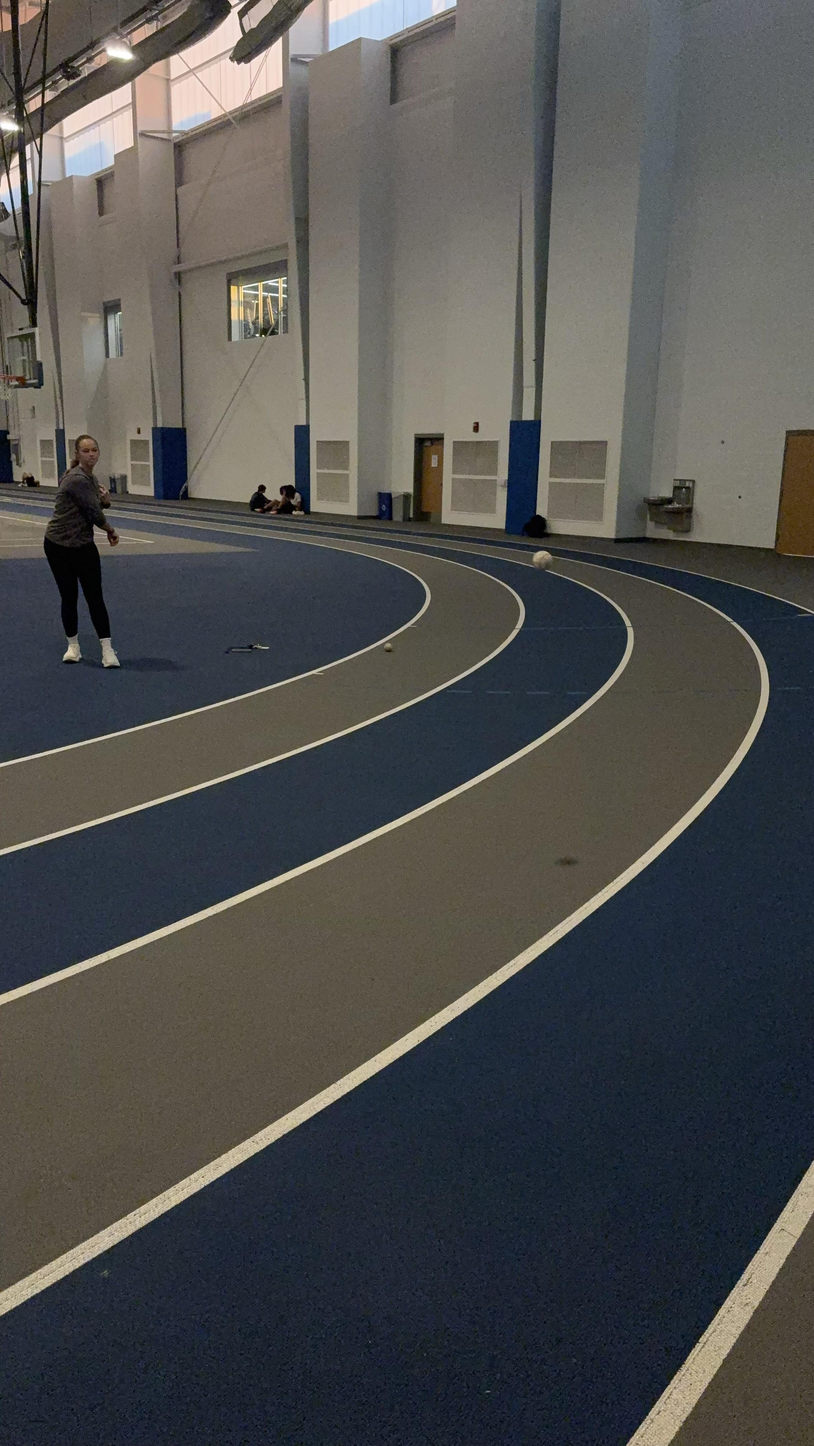Baseball: (529, 548, 555, 575), (383, 642, 394, 652)
